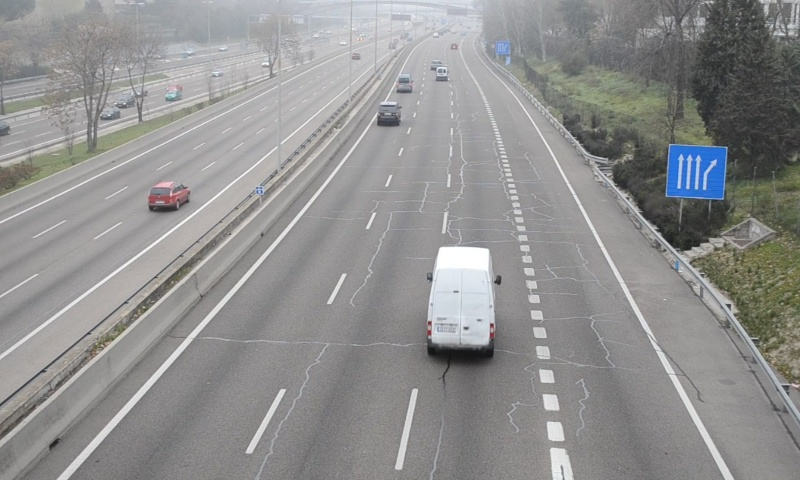car: (377, 100, 402, 126)
van: (426, 248, 496, 355), (396, 72, 413, 93)
